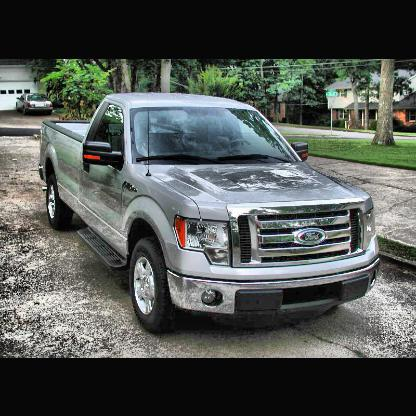Ford F-150 Regular Cab 2012: (37, 90, 383, 340)
